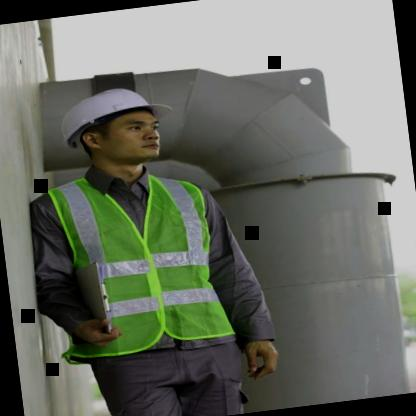helmet: (49, 68, 178, 184)
